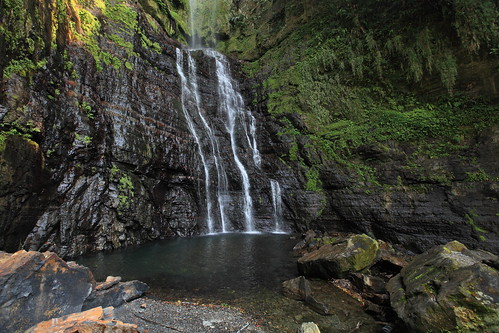wufengciWaterfall: (165, 16, 296, 246)
